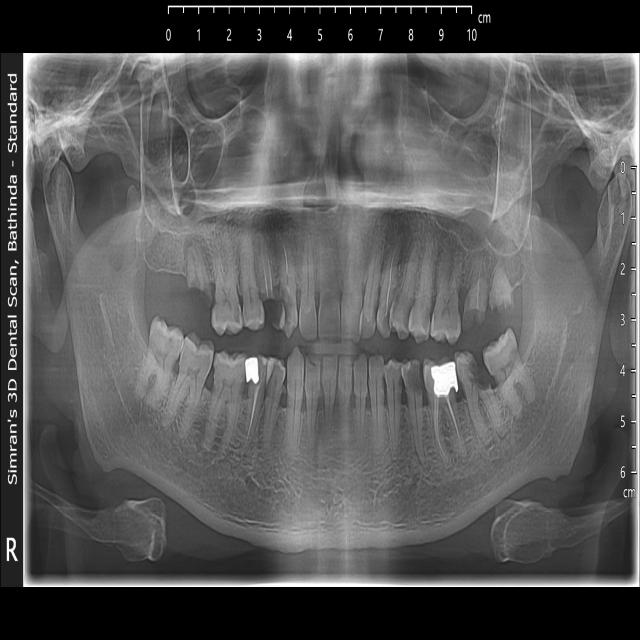Caries: (473, 357, 492, 388), (464, 305, 487, 330), (263, 300, 283, 324), (404, 370, 422, 393)
Filling: (432, 359, 459, 399), (246, 357, 258, 381)
Periapical lesion: (385, 212, 414, 270)
Root Canal Treatment: (424, 357, 471, 471), (239, 354, 269, 462), (275, 225, 300, 339), (377, 230, 400, 339), (253, 234, 280, 302)
Root Piece: (185, 238, 212, 294), (490, 269, 518, 312)
